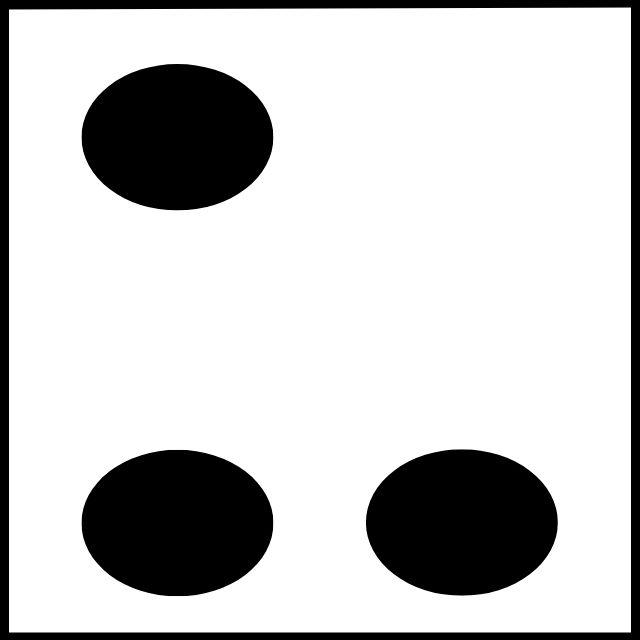upang: (80, 63, 558, 634)
